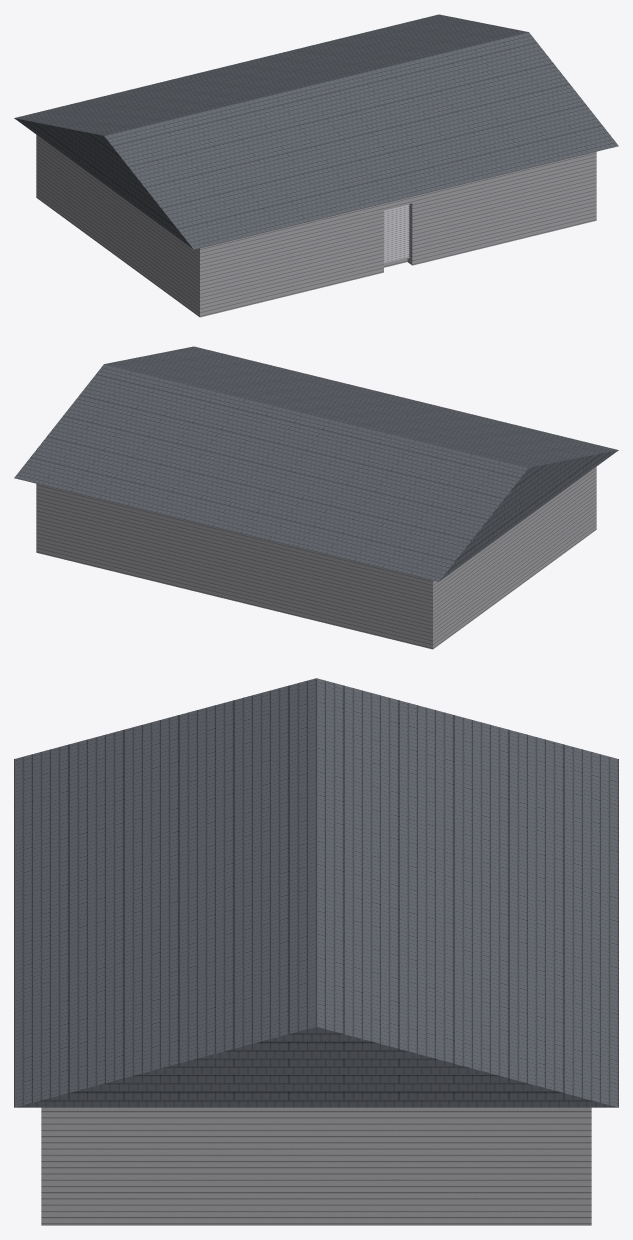
The model's file is ranch.glb.
3 renders of one model, top to bottom at view 1: azimuth 30°, elevation 25°; view 2: azimuth 150°, elevation 25°; view 3: azimuth 270°, elevation 25°, orthographic. The views are drawn at different scales.
Parts seen in each view (by area): view 1: ranch-col; view 2: ranch-col; view 3: ranch-col.
Part boxes in pixels (box(x1,y1,x2,y2)): ranch-col: box(14, 14, 618, 317); ranch-col: box(14, 346, 618, 649); ranch-col: box(14, 678, 618, 1225).
Bounding box in the file's own units: 15 × 4.22 × 11.
2 materials, 2 textured.
